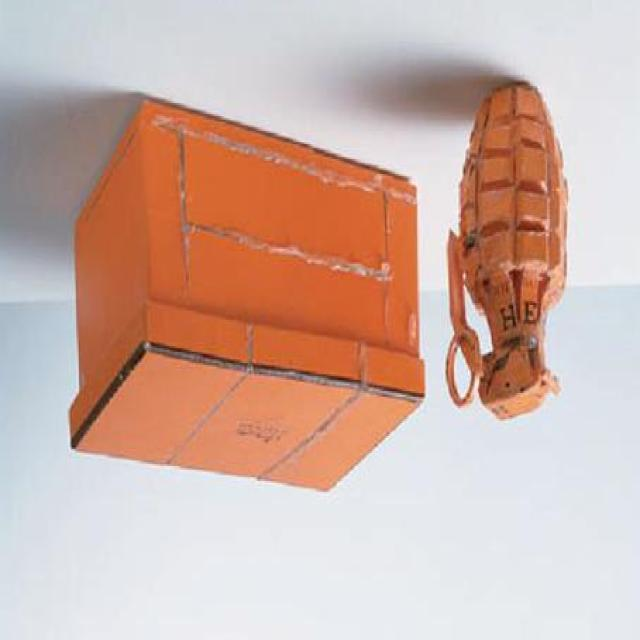grenade: (448, 83, 570, 422)
